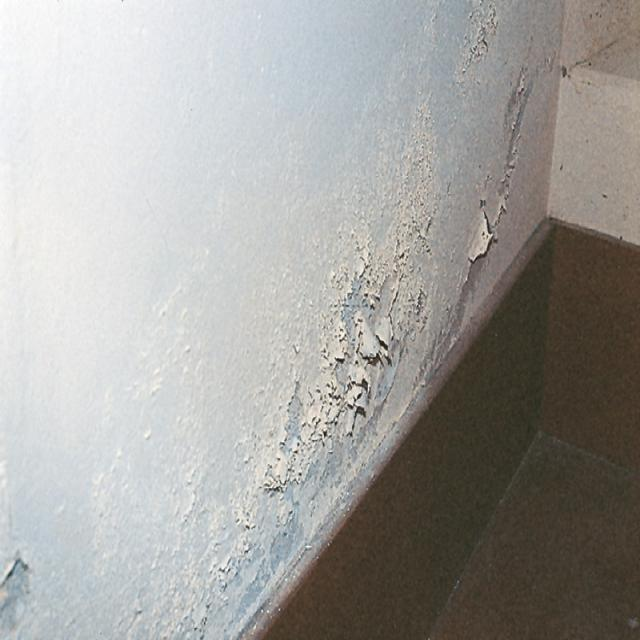Water_Leakage: (133, 49, 525, 590)
